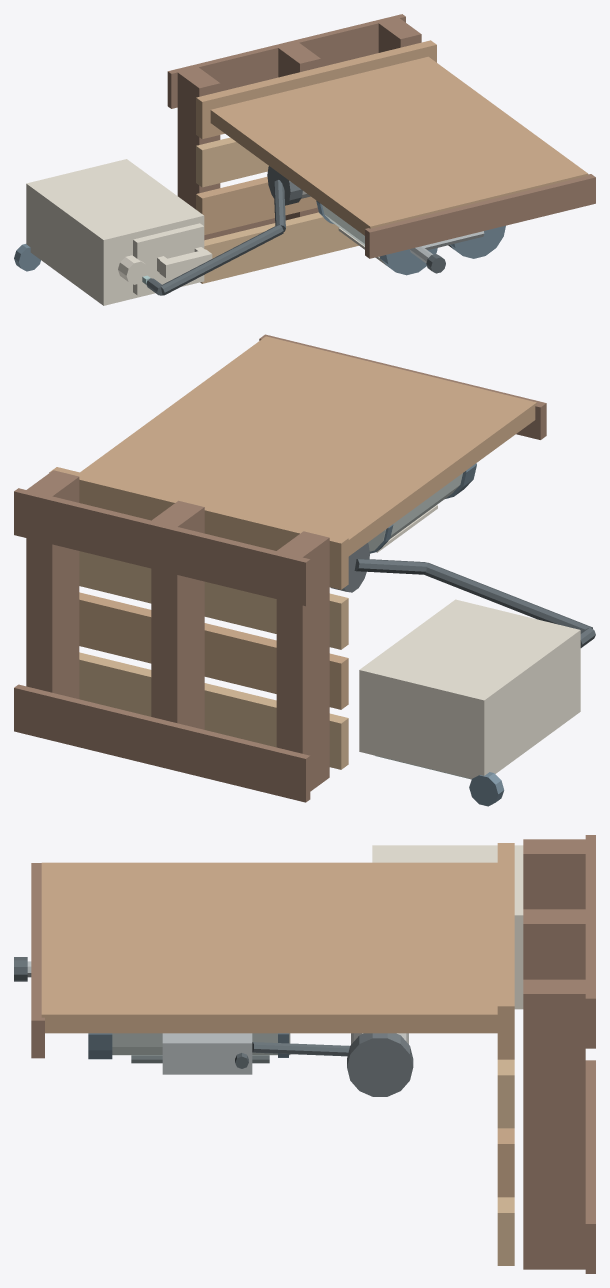
File: 07_uv_water_filter.glb
3 views of the same model, one above another, from view 1: azimuth 30°, elevation 25°; view 2: azimuth 150°, elevation 25°; view 3: azimuth 270°, elevation 25° (orthographic). The views are drawn at different scales.
Visible parts, largest first — view 1: uv_board_0010, jug_body_0037, uv_board_edge_0011, pallet_base_board_0009, pallet_slat_0004, pallet_slat_0007, pallet_slat_0005, pallet_stringer_0001, pallet_slat_0006, jug_shoulder_0039, uv_outlet_0034, pallet_stringer_0002 (+9 smaller); view 2: uv_board_0010, jug_body_0037, pallet_base_board_0008, pallet_base_board_0009, pallet_stringer_0001, pallet_stringer_0002, pallet_stringer_0003, pallet_slat_0005, pallet_slat_0004, pallet_slat_0007, pallet_slat_0006, uv_outlet_0034 (+5 smaller); view 3: uv_board_0010, pallet_stringer_0003, pallet_stringer_0001, pallet_stringer_0002, jug_body_0037, pallet_slat_0007, uv_ballast_0029, uv_tube_cap_0025, pallet_base_board_0008, pallet_base_board_0009, uv_board_edge_0011, uv_carbon_housing_0016 (+5 smaller).
Boxes of the visible parts, x1,y1,x2,y2 form: uv_board_0010: (210,56,588,235); jug_body_0037: (26,159,204,305); uv_board_edge_0011: (365,174,595,258); pallet_base_board_0009: (167,14,405,108); pallet_slat_0004: (200,212,358,283); pallet_slat_0007: (196,40,436,139); pallet_slat_0005: (196,176,317,234); pallet_stringer_0001: (177,67,220,240); pallet_slat_0006: (196,137,268,187); jug_shoulder_0039: (133,223,204,295); uv_outlet_0034: (161,225,283,295); pallet_stringer_0002: (278,43,320,220); uv_board_0010: (80,336,536,556); jug_body_0037: (359,599,580,779); pallet_base_board_0008: (14,684,310,802); pallet_base_board_0009: (14,488,310,606); pallet_stringer_0001: (276,531,329,791); pallet_stringer_0002: (151,500,204,729); pallet_stringer_0003: (26,470,79,698); pallet_slat_0005: (79,592,348,709); pallet_slat_0004: (79,652,348,769); pallet_slat_0007: (49,467,348,589); pallet_slat_0006: (79,551,348,649); uv_outlet_0034: (424,562,592,631); uv_board_0010: (41,862,497,1033); pallet_stringer_0003: (523,979,585,1269); pallet_stringer_0001: (523,839,585,909); pallet_stringer_0002: (523,909,585,979); jug_body_0037: (372,845,523,1009); pallet_slat_0007: (497,843,514,1059); uv_ballast_0029: (162,1033,252,1074); uv_tube_cap_0025: (347,1033,413,1096); pallet_base_board_0008: (585,1060,595,1273); pallet_base_board_0009: (585,835,595,1048); uv_board_edge_0011: (31,863,44,1058); uv_carbon_housing_0016: (112,1033,290,1055).
Bounding box in the file's own units: 0.928 × 0.44 × 0.8425.
